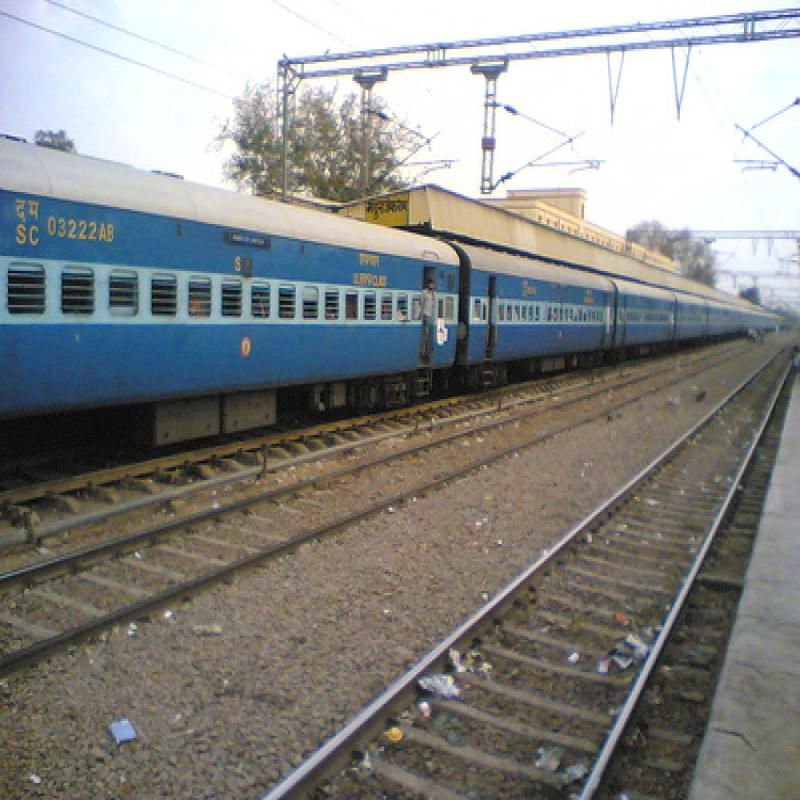train: (3, 127, 782, 460)
